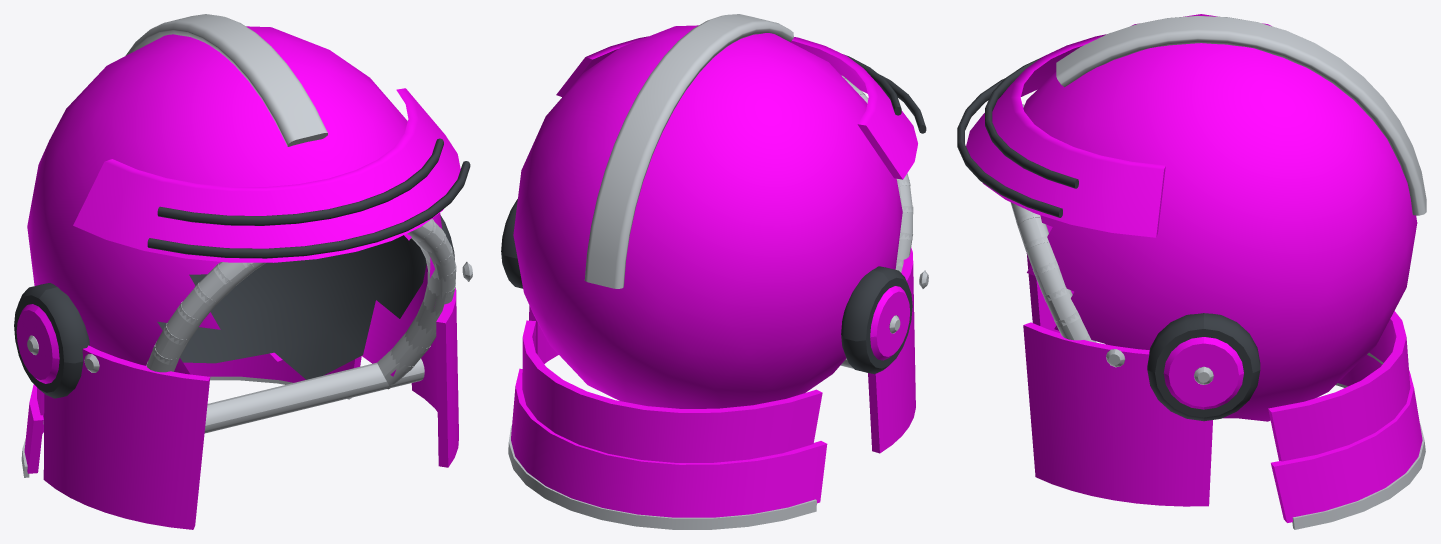
File: porte_armure2_casque.glb
3 renders of one model, left to right at view 1: azimuth 30°, elevation 25°; view 2: azimuth 150°, elevation 25°; view 3: azimuth 270°, elevation 25°, orthographic. The views are drawn at different scales.
Parts seen in each view (by area): view 1: tete__casque_teinte.006, tete__casque_teinte_sombre.006, tete__casque_rivet.004; view 2: tete__casque_teinte.006, tete__casque_rivet.004, tete__casque_teinte_sombre.006; view 3: tete__casque_teinte.006, tete__casque_rivet.004, tete__casque_teinte_sombre.006.
Part boxes in pixels (x1,y1,x2,y2): tete__casque_teinte.006: (16,26,460,529); tete__casque_teinte_sombre.006: (14,138,470,398); tete__casque_rivet.004: (21,14,472,477); tete__casque_teinte.006: (511,25,917,517); tete__casque_rivet.004: (508,14,928,529); tete__casque_teinte_sombre.006: (501,54,926,374); tete__casque_teinte.006: (966,14,1422,522); tete__casque_rivet.004: (1010,15,1426,529); tete__casque_teinte_sombre.006: (957,57,1260,421).
Size of the model in its own units: 0.368 by 0.377 by 0.3736.
